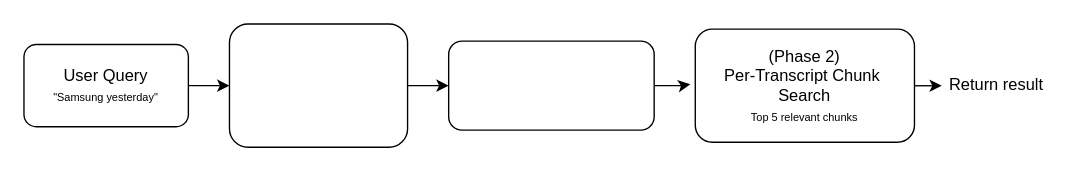
Some shapes in this 1075 by 171 pixel diagram are drawn without their labels. Each missing label, with the box of its shape:
(Phase 1) Transcript Ranking Top 3 relevant transcripts: (447, 40, 654, 130)
Parse Filters Keywords: "Samsung" Date: "2026-03-21" Speaker: None: (228, 23, 408, 147)
